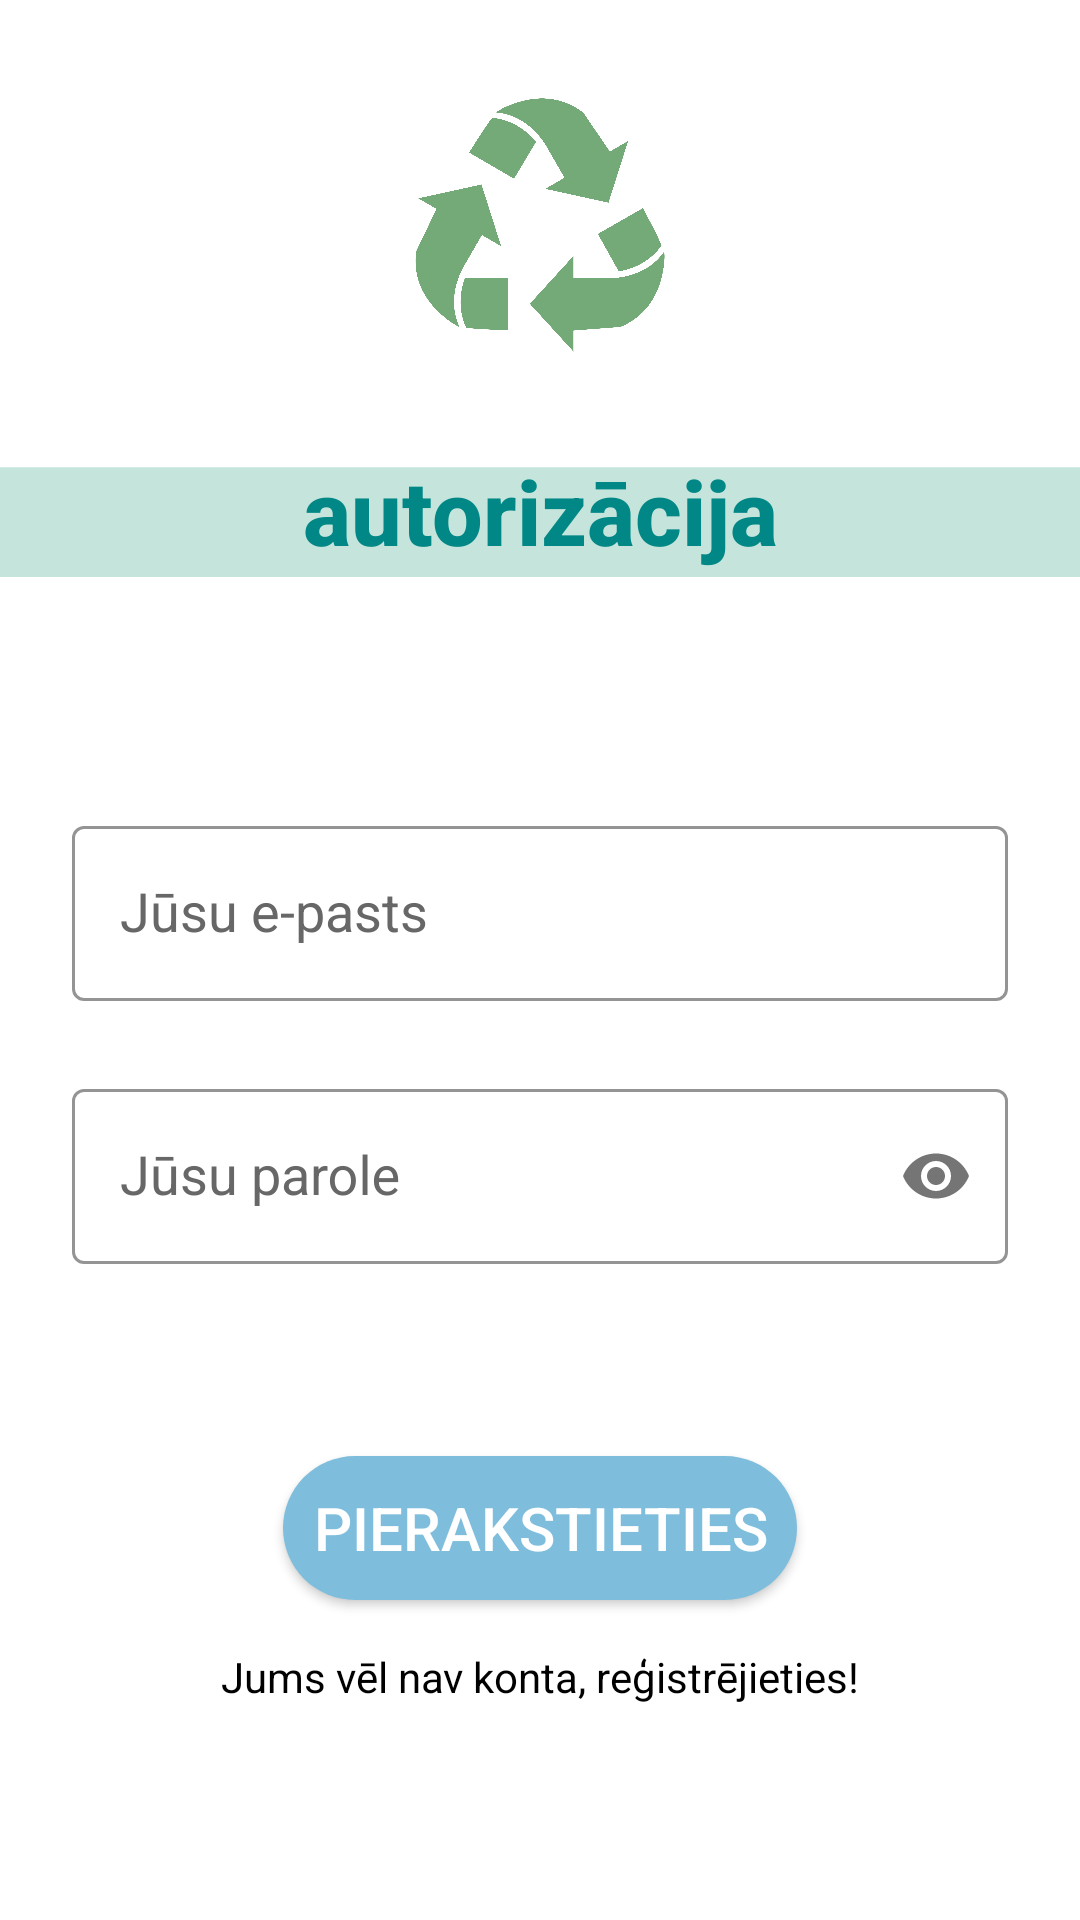

Where icons sit on this 1080 × 1920 app screen, as [x1, y1, x2, y2]:
recycle: [416, 98, 665, 352]
